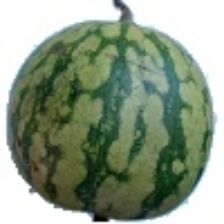watermelon: (29, 23, 224, 163)
